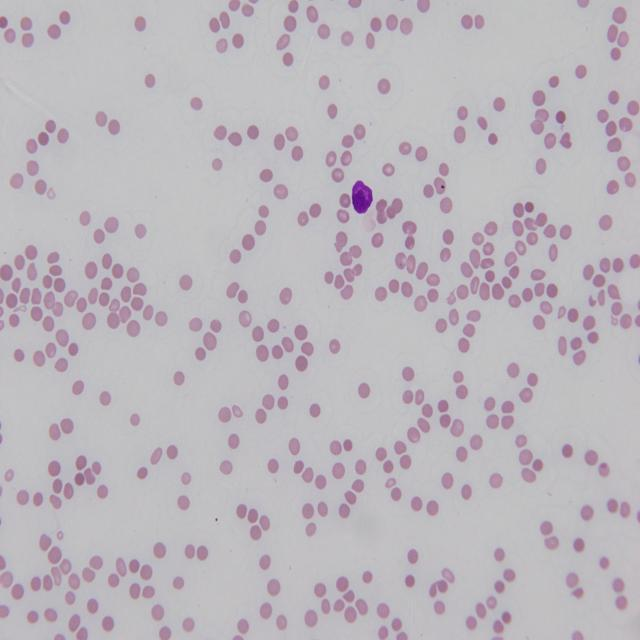cell: (351, 180, 372, 214)
